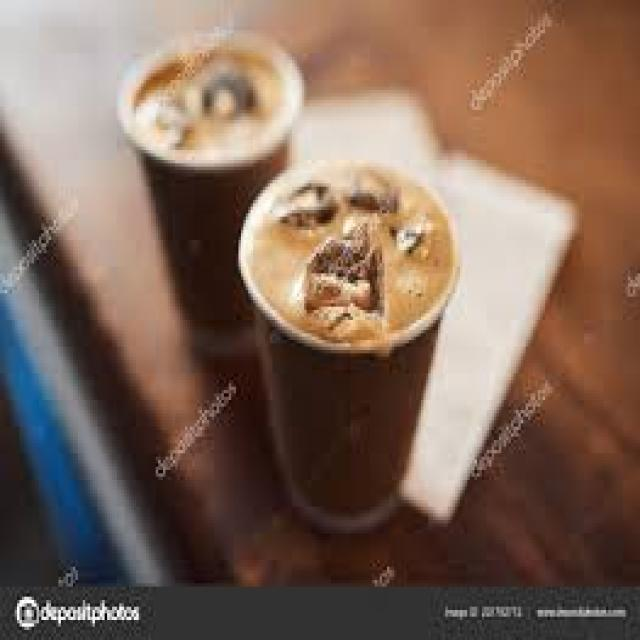bottle: (239, 161, 459, 532), (117, 33, 304, 322)
